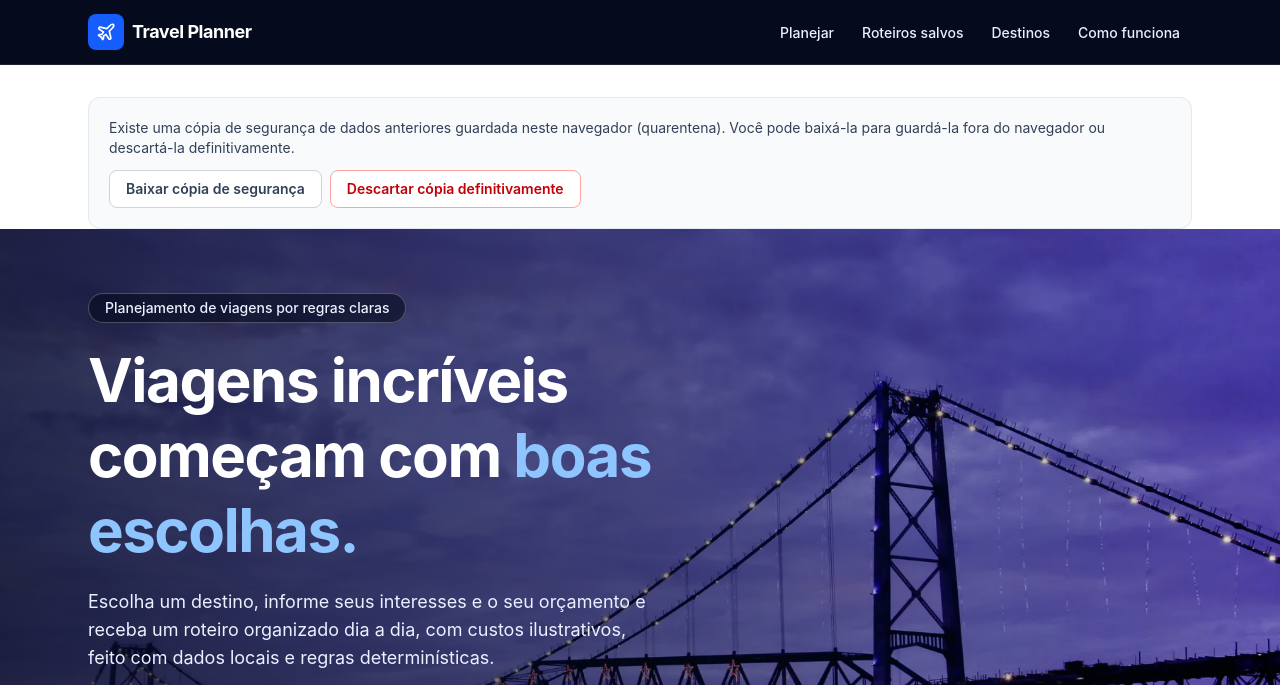
it: AUD-01 — descarte seguro da quarentena › confirmação reutilizada: após um descarte confirmado, uma nova cópia exige nova autorização explícita
Step 1. Click the button "Descartar cópia definitivamente" → (455, 189), box [330,170,581,208]
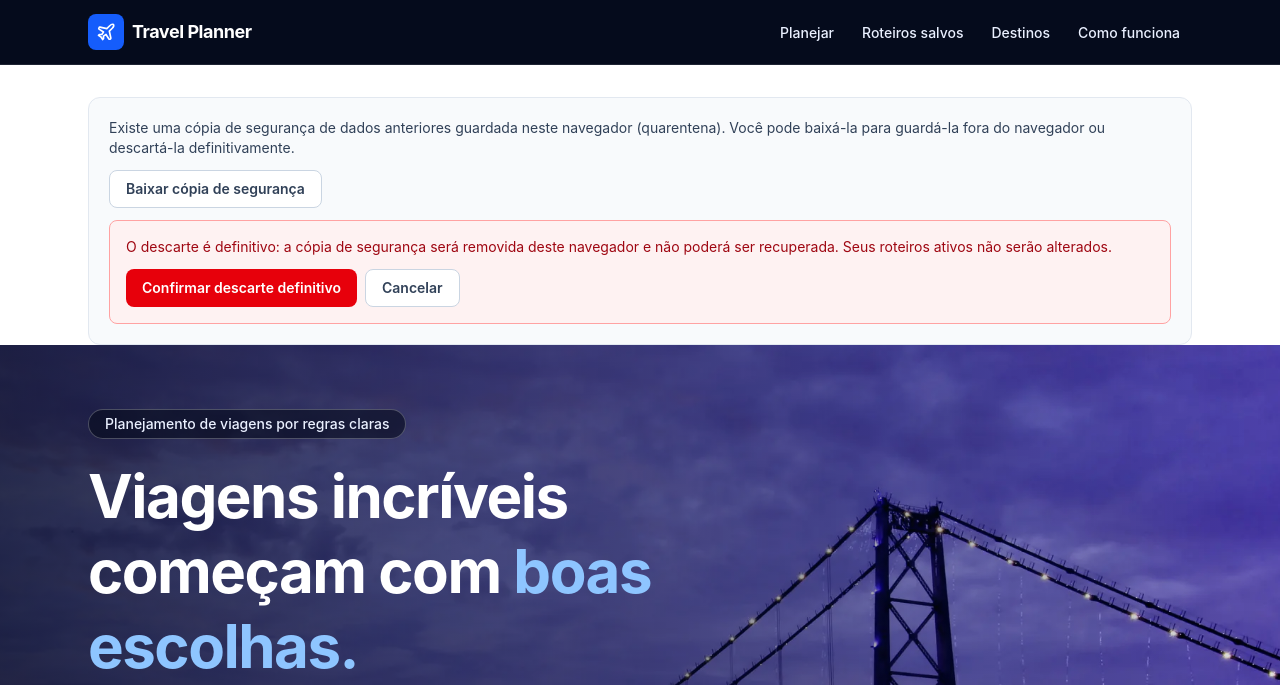
expect the text "O descarte é definitivo" is shown: met, box [126,238,1112,255]
Step 2. Click the button "Confirmar descarte definitivo" → (242, 288), box [126,269,357,307]
(page scrolled)
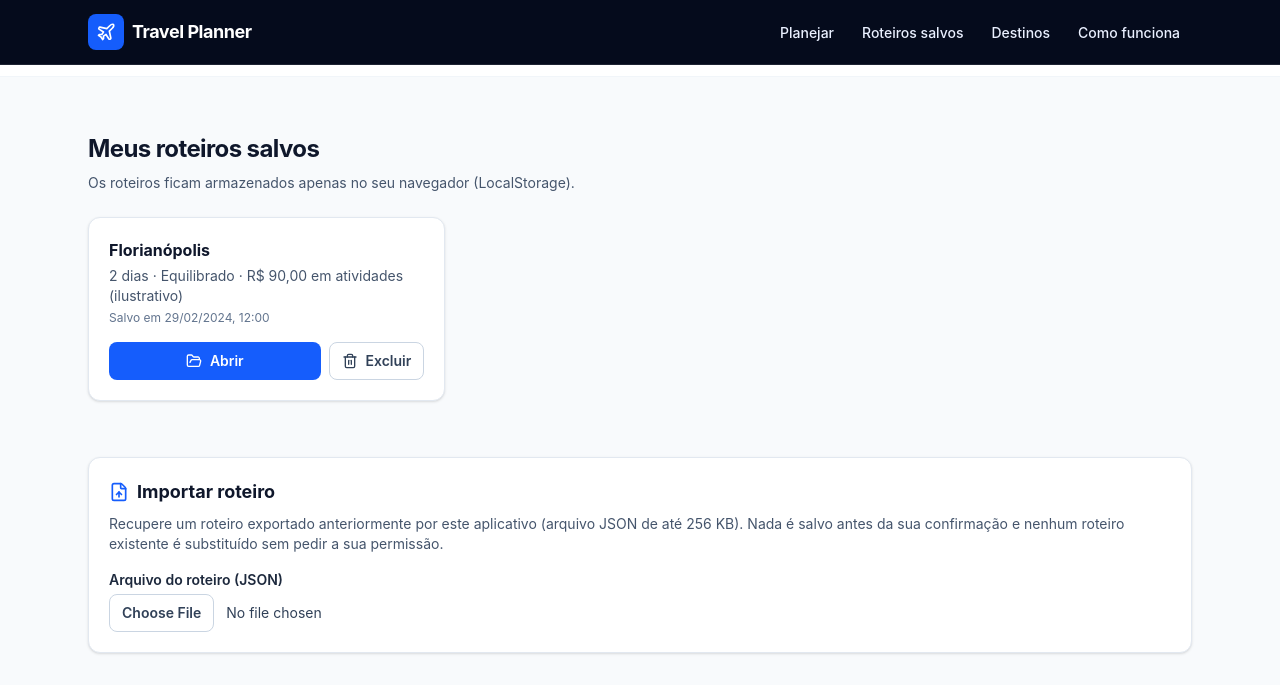
Step 3. Click the button with aria-label "Excluir roteiro de Florianópolis" → (376, 361), box [329,342,424,380]
(page scrolled)
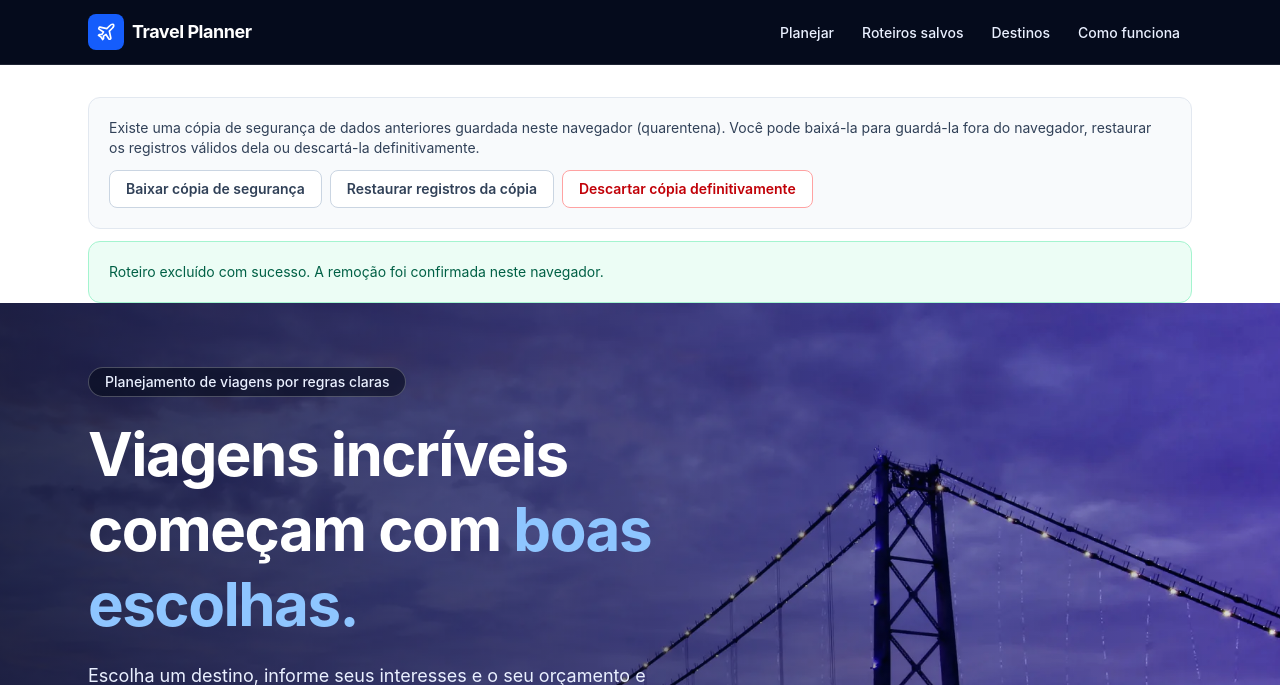
expect the text "O descarte é definitivo" is not shown: met
expect the text "Roteiro excluído com sucesso. A remoção foi confirmada neste navegador." is shown: met, box [88,241,1192,303]
expect the text "Existe uma cópia de segurança" is shown: met, box [109,119,1084,136]
Step 4. Click the button "Descartar cópia definitivamente" → (687, 189), box [562,170,813,208]
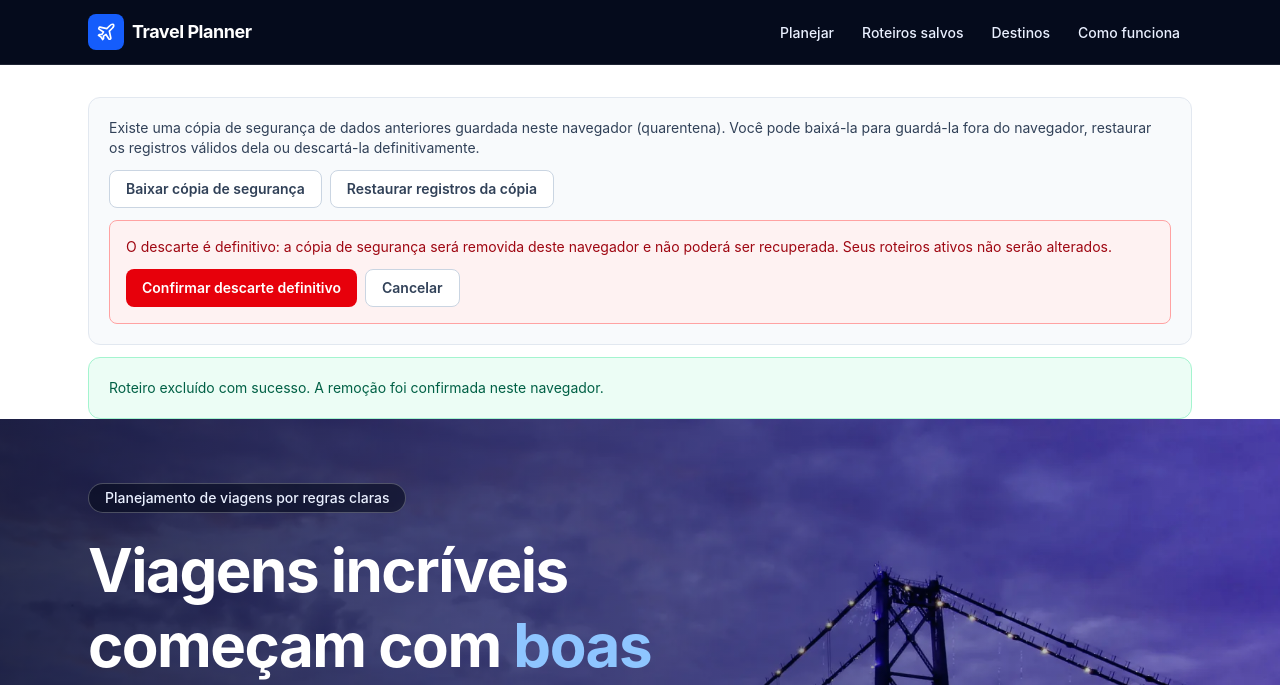
expect the text "O descarte é definitivo" is shown: met, box [126,238,1112,255]
Step 5. Click the button "Confirmar descarte definitivo" → (242, 288), box [126,269,357,307]
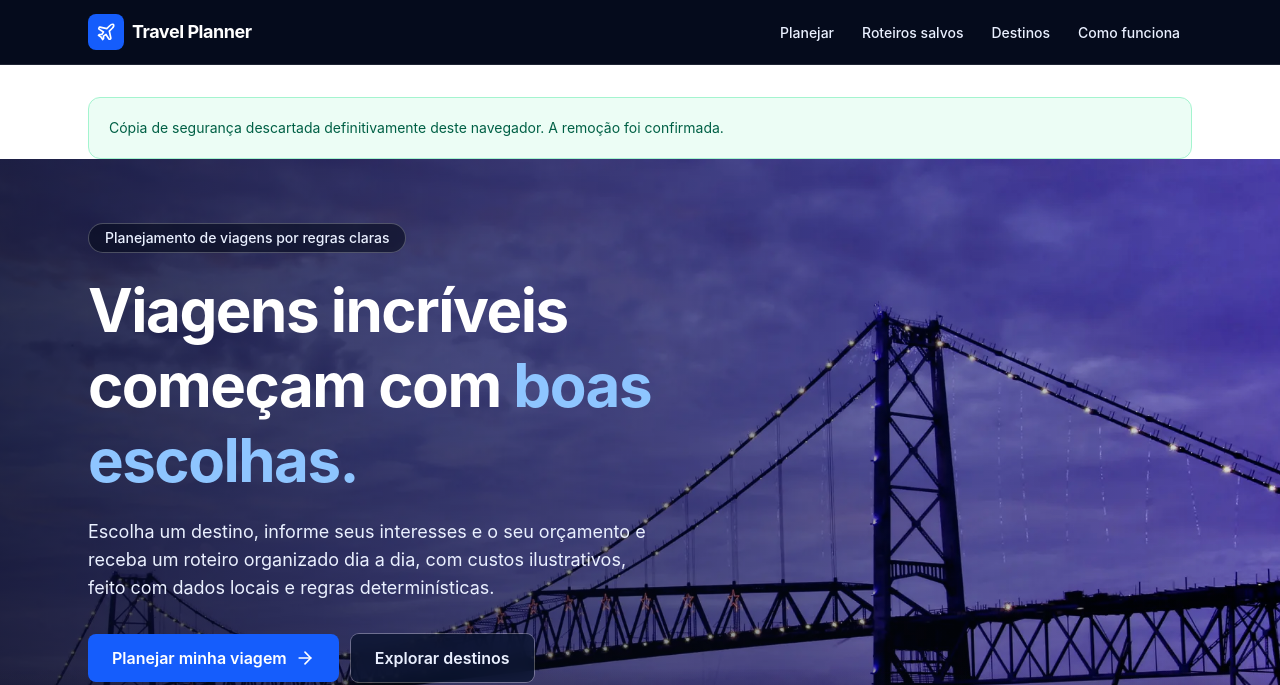
expect the text "Cópia de segurança descartada definitivamente" is shown: met, box [109,119,724,136]
